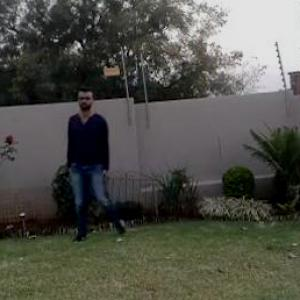follow: (76, 84, 129, 250)
